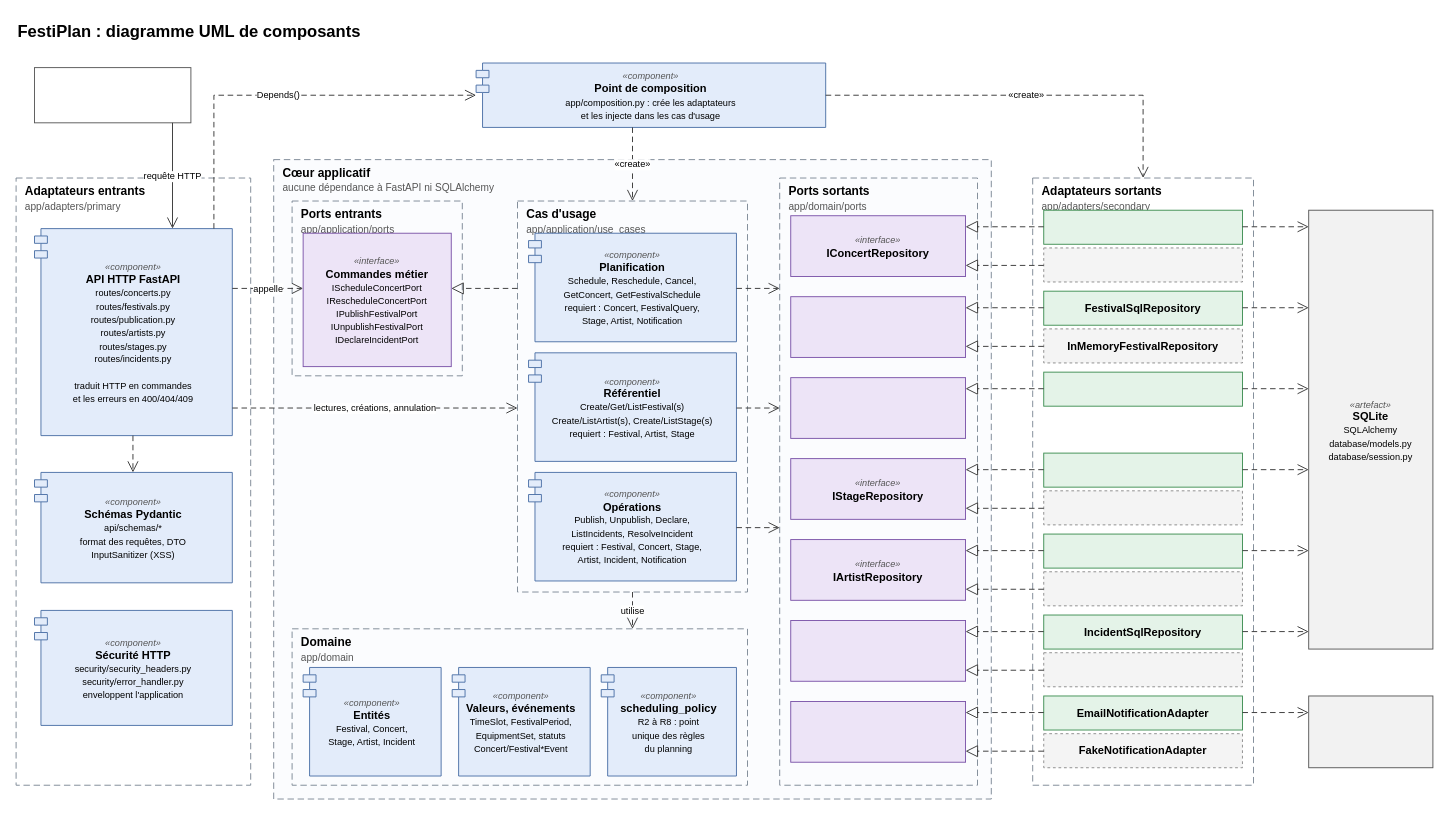
Some shapes in this 1449 by 815 pixel diagram are drawn without their labels. Each missing label, with the centre of its shape:
"ArtistSqlRepository" belongs at (x=1142, y=550).
"ConcertSqlRepository" belongs at (x=1142, y=226).
"FestivalSqlQueryAdapter" belongs at (x=1142, y=388).
"InMemoryArtistRepository" belongs at (x=1142, y=588).
"InMemoryConcertRepository" belongs at (x=1142, y=264).
"InMemoryIncidentRepository" belongs at (x=1142, y=669).
"InMemoryStageRepository" belongs at (x=1142, y=507).
"StageSqlRepository" belongs at (x=1142, y=469).
"«acteur» Client HTTP Swagger, TestClient" belongs at (x=112, y=95).
"«artefact» email_sender envoi simulé" belongs at (x=1370, y=731).
"«interface» IFestivalQueryPort" belongs at (x=878, y=407).
"«interface» IFestivalRepository" belongs at (x=878, y=326).
"«interface» IIncidentRepository" belongs at (x=878, y=650).
"«interface» INotificationSenderPort" belongs at (x=878, y=731).
